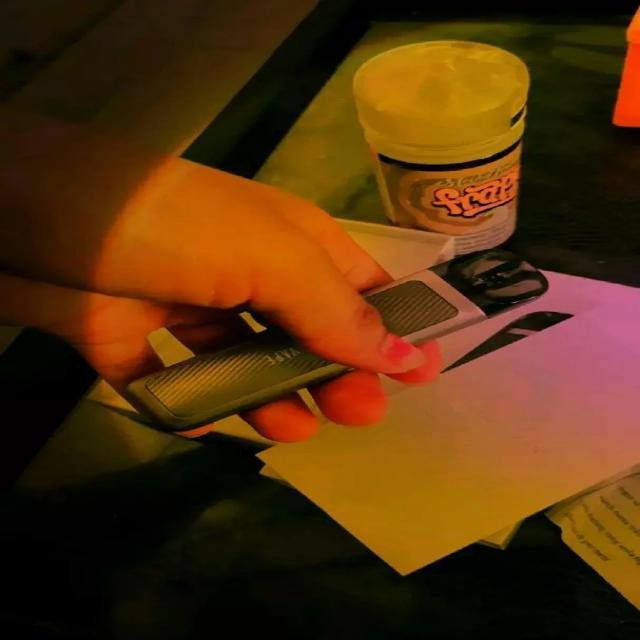Hazard: (116, 247, 551, 434)
